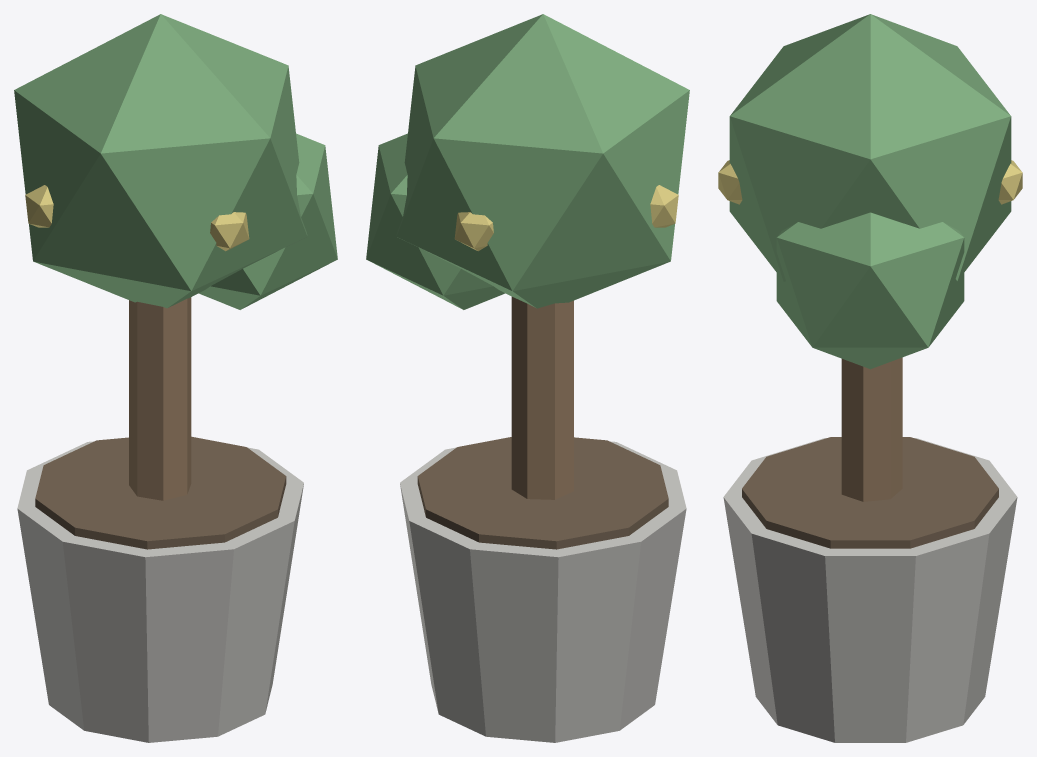
File: pla_limao.glb
The picture shows the model from 3 angles, left to right: view 1: azimuth 30°, elevation 25°; view 2: azimuth 150°, elevation 25°; view 3: azimuth 270°, elevation 25°; orthographic projection.
Visible parts, largest first — view 1: PLA_LIMÃO_v01; view 2: PLA_LIMÃO_v01; view 3: PLA_LIMÃO_v01.
Boxes of the visible parts, x1,y1,x2,y2 form: PLA_LIMÃO_v01: [14, 14, 337, 742]; PLA_LIMÃO_v01: [366, 14, 689, 742]; PLA_LIMÃO_v01: [718, 14, 1022, 742].
Bounding box in the file's own units: 0.3742 × 0.82 × 0.331.
